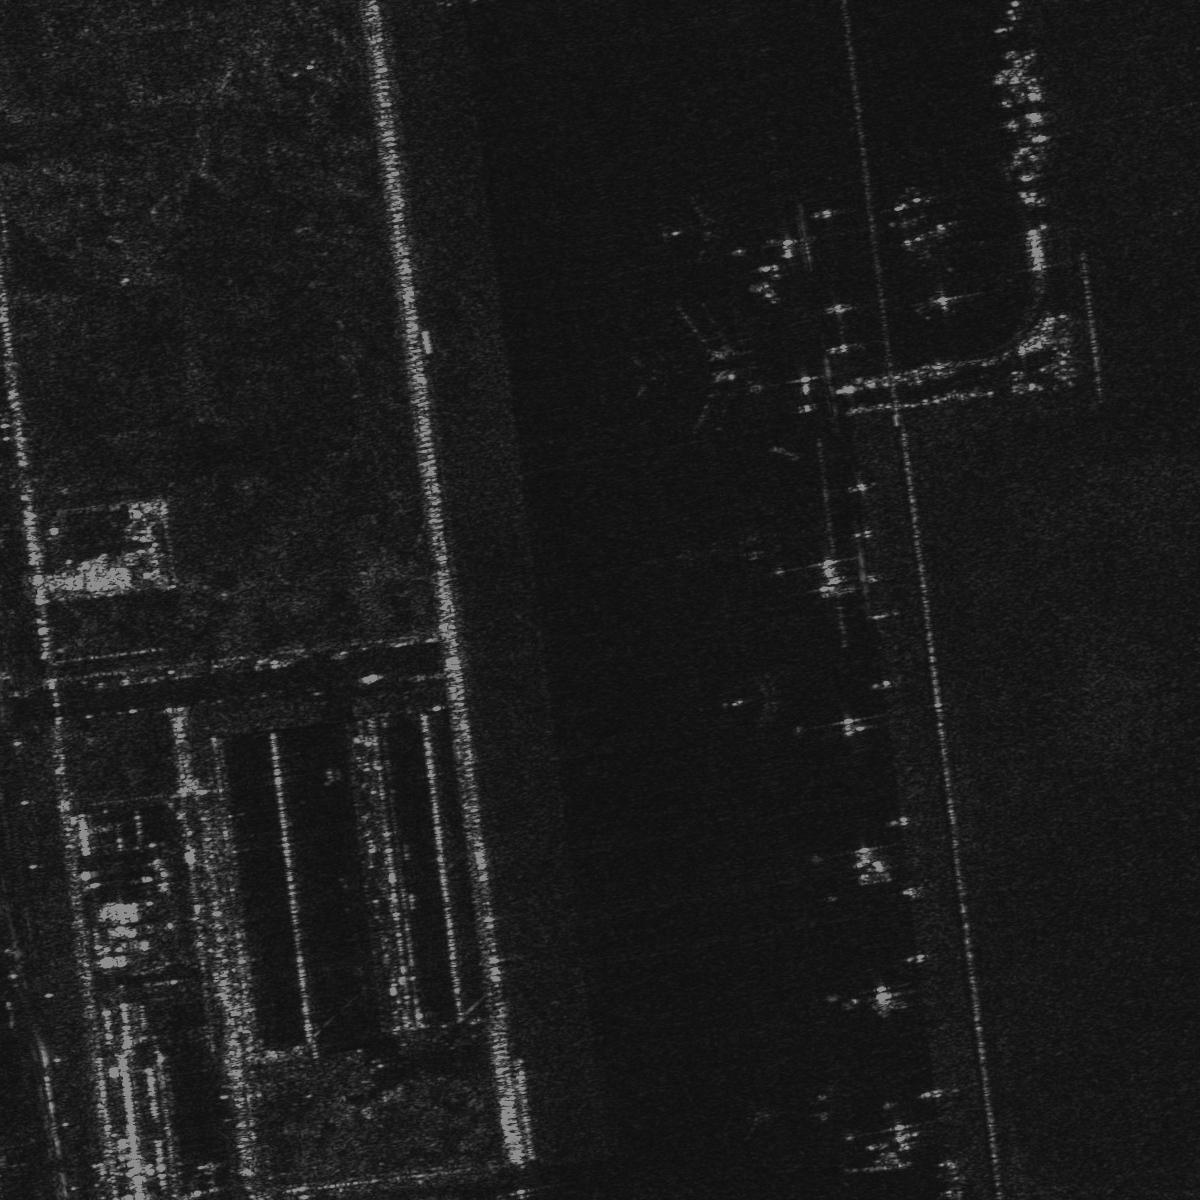Boeing787: (625, 299, 764, 441), (652, 191, 738, 269), (716, 664, 800, 730)
